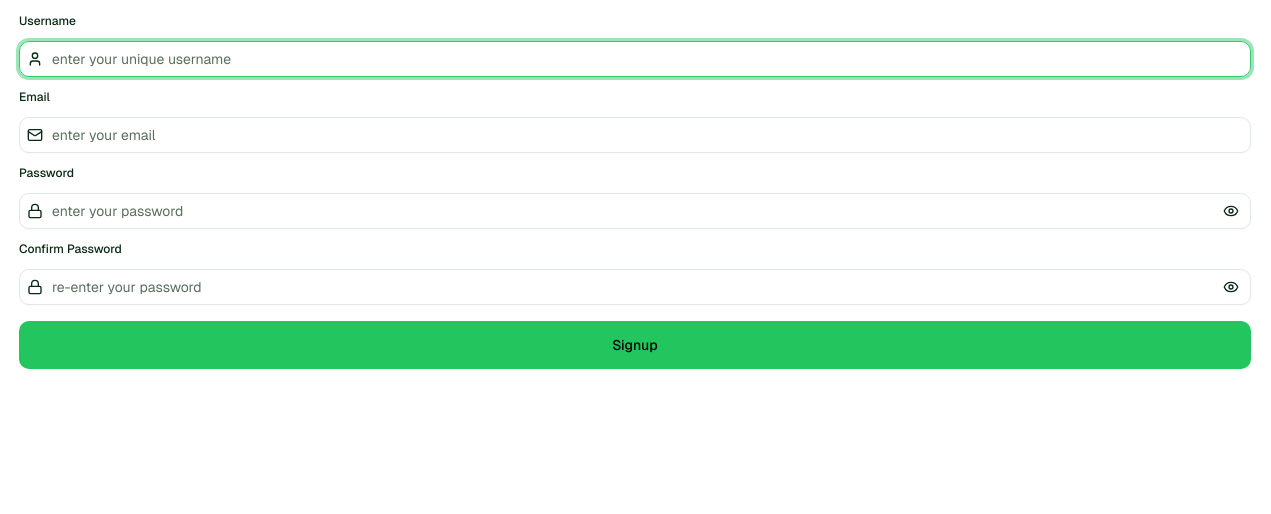
Test: SignupForm › Form Validation › should show name error when name is shorter than 2 characters
In the field with test id "signup-name-input": x=635, y=59 [19, 41, 1251, 77], type "A"
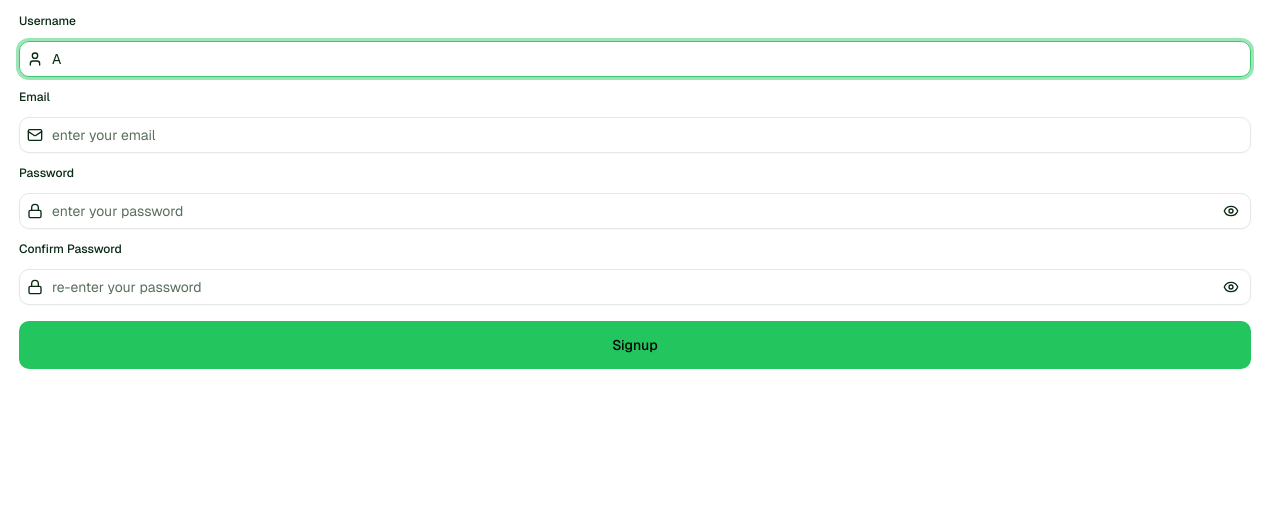
Click the button with test id "signup-submit-button": x=635, y=345 [19, 321, 1251, 369]
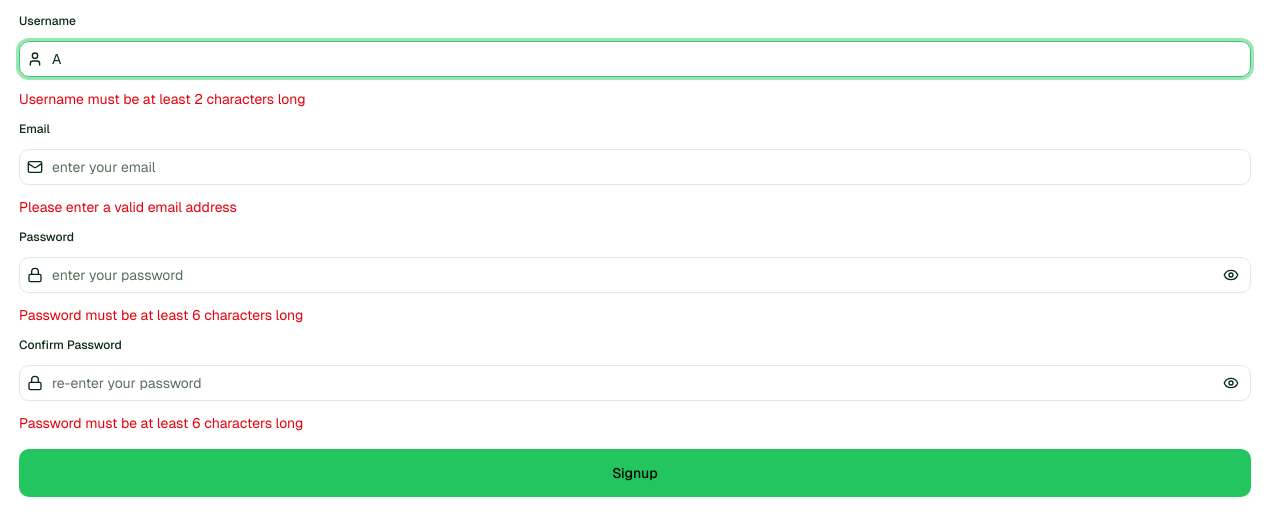
Check: the message with test id "signup-name-error" shows "name must be at least 2 characters", box [19, 90, 306, 108]
